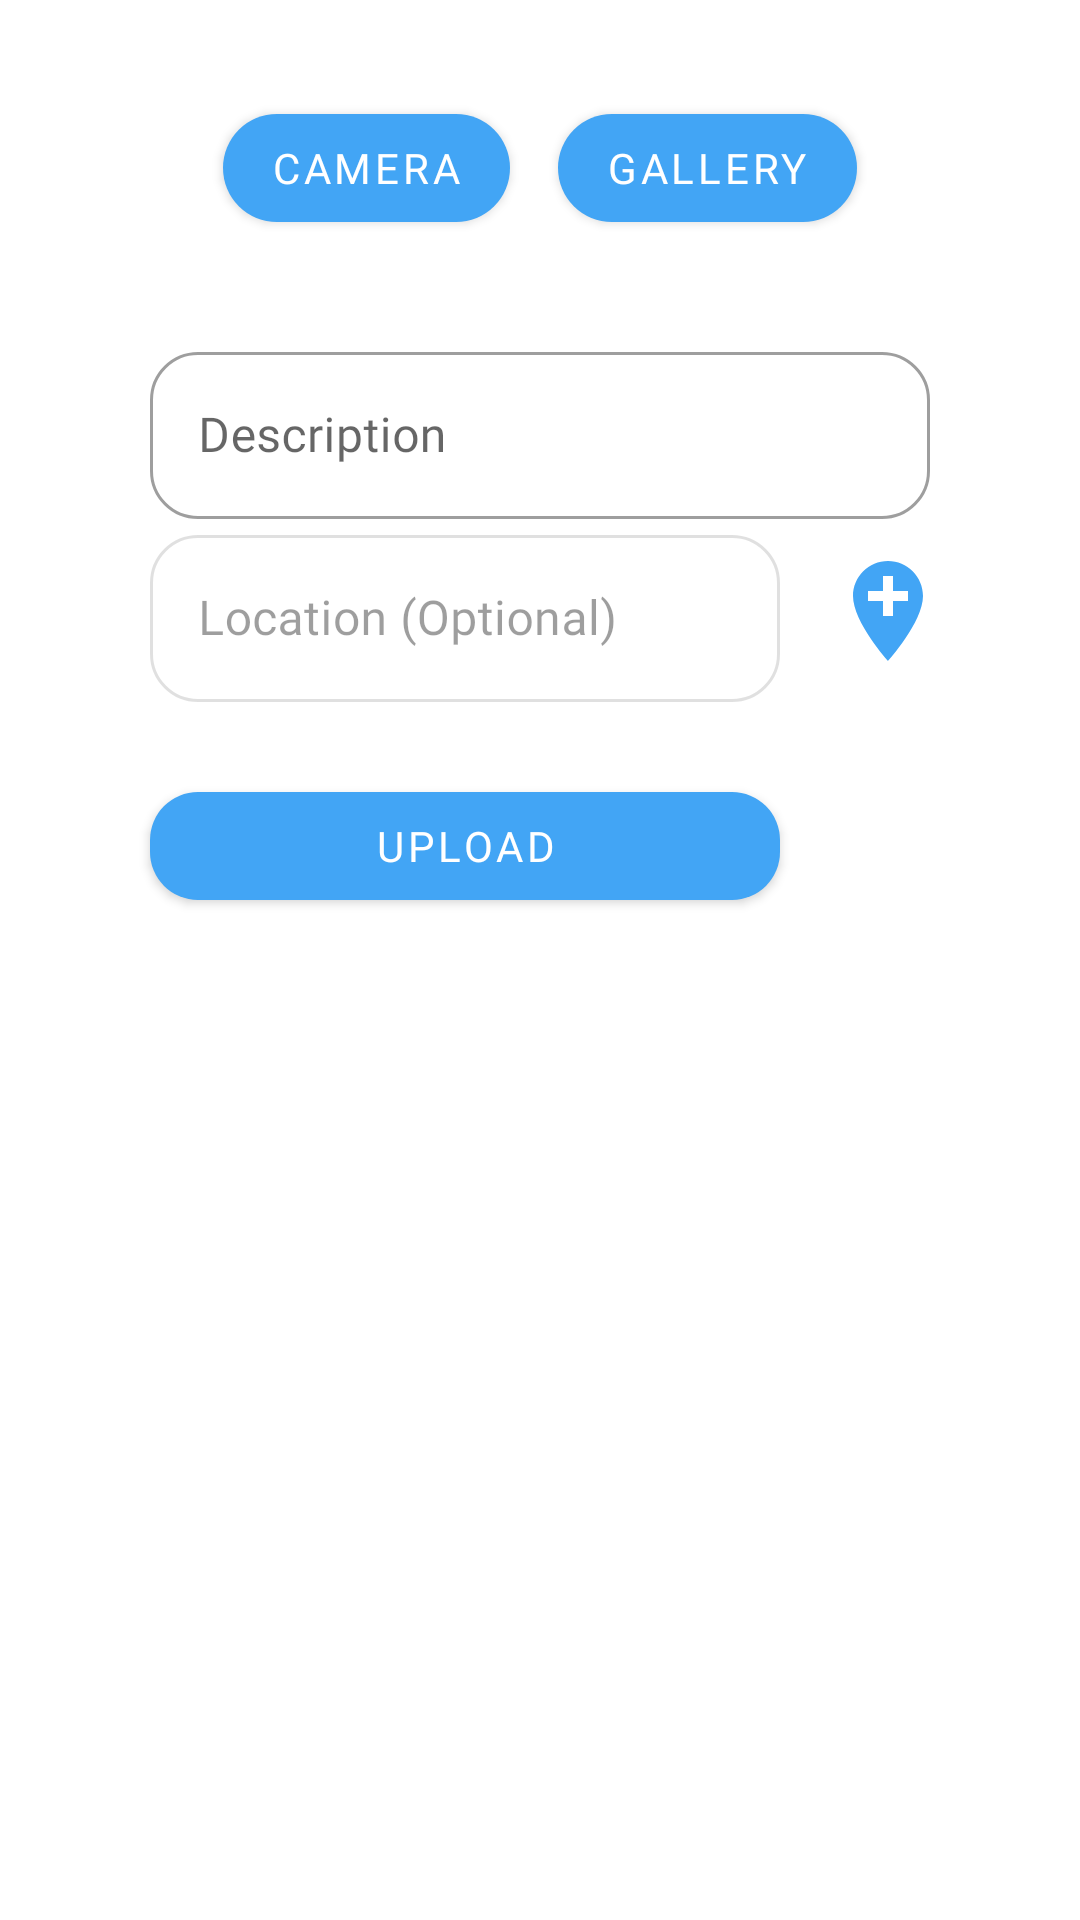

Icons on this 1080*1920 Android screen, each with the point to tap as (x,y):
add location: (888,611)
